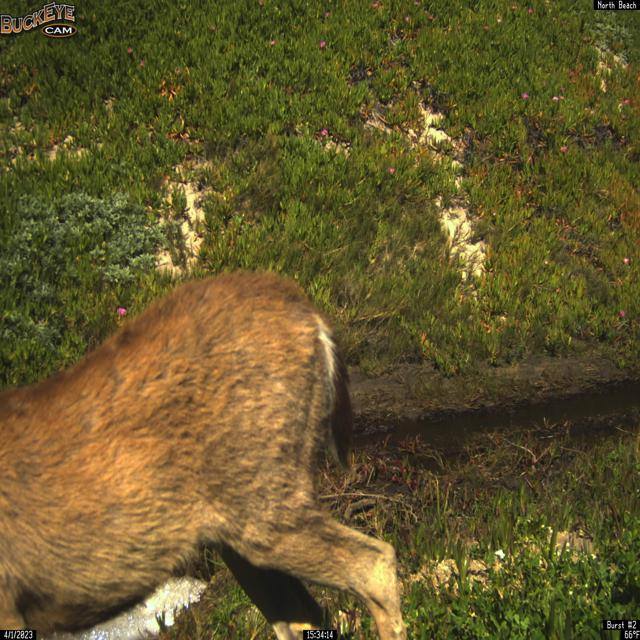deer: (0, 269, 410, 640)
